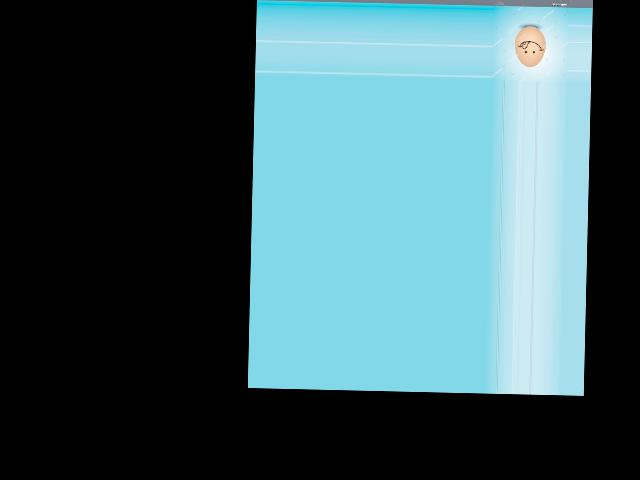egg: (513, 26, 546, 67)
